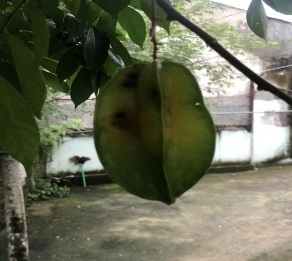Khe: (93, 61, 218, 205)
